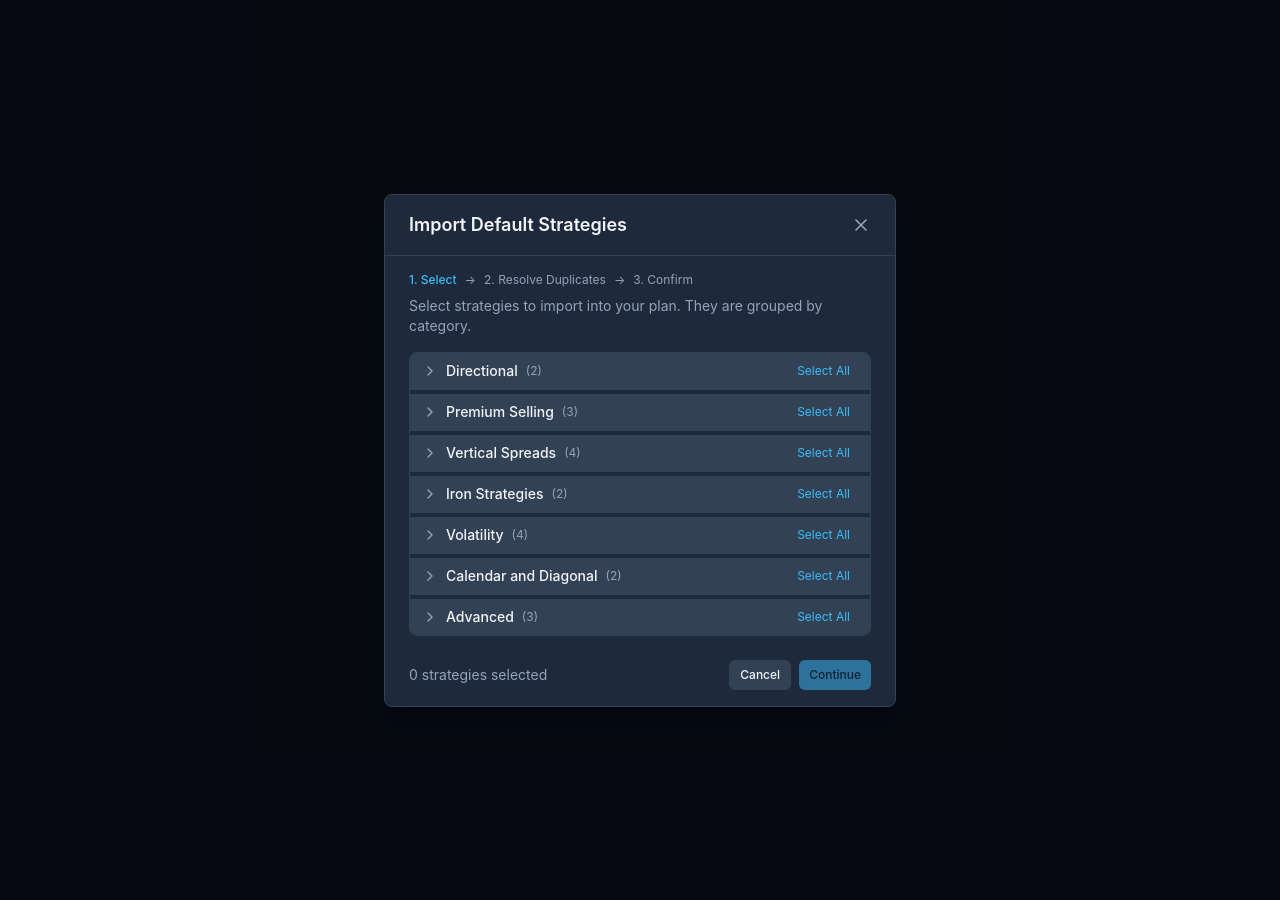
Test case: StrategyImporter › renders categories and strategy checkboxes › shows strategy checkboxes when a category is expanded
# Expand the "Directional" category
Click the button with aria-label "Directional category" at (482, 370), box [422,360,781,380]
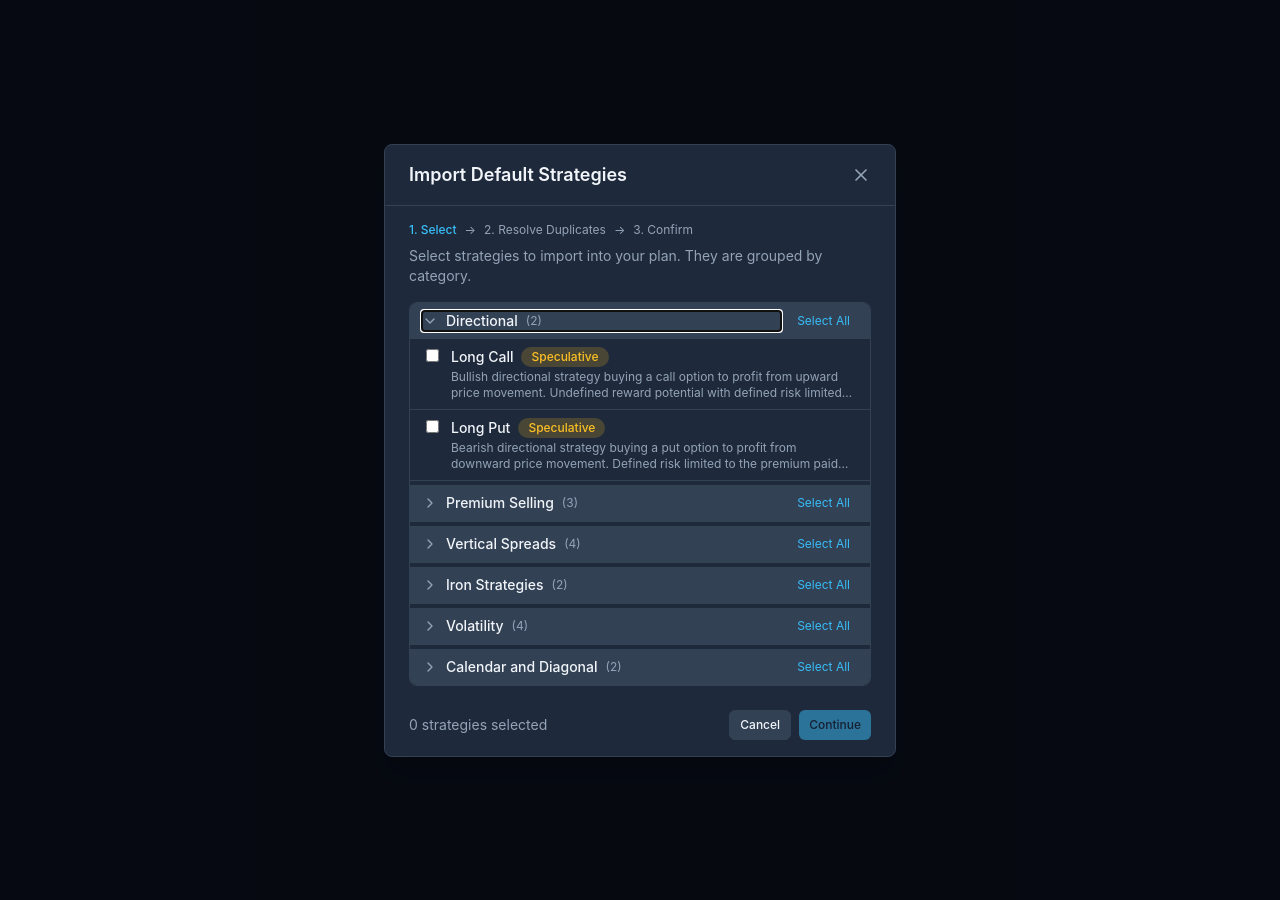
Now the checkbox named "Select Long Call" is shown, box [426,348,439,362]
Now the checkbox named "Select Long Put" is shown, box [426,420,439,432]
